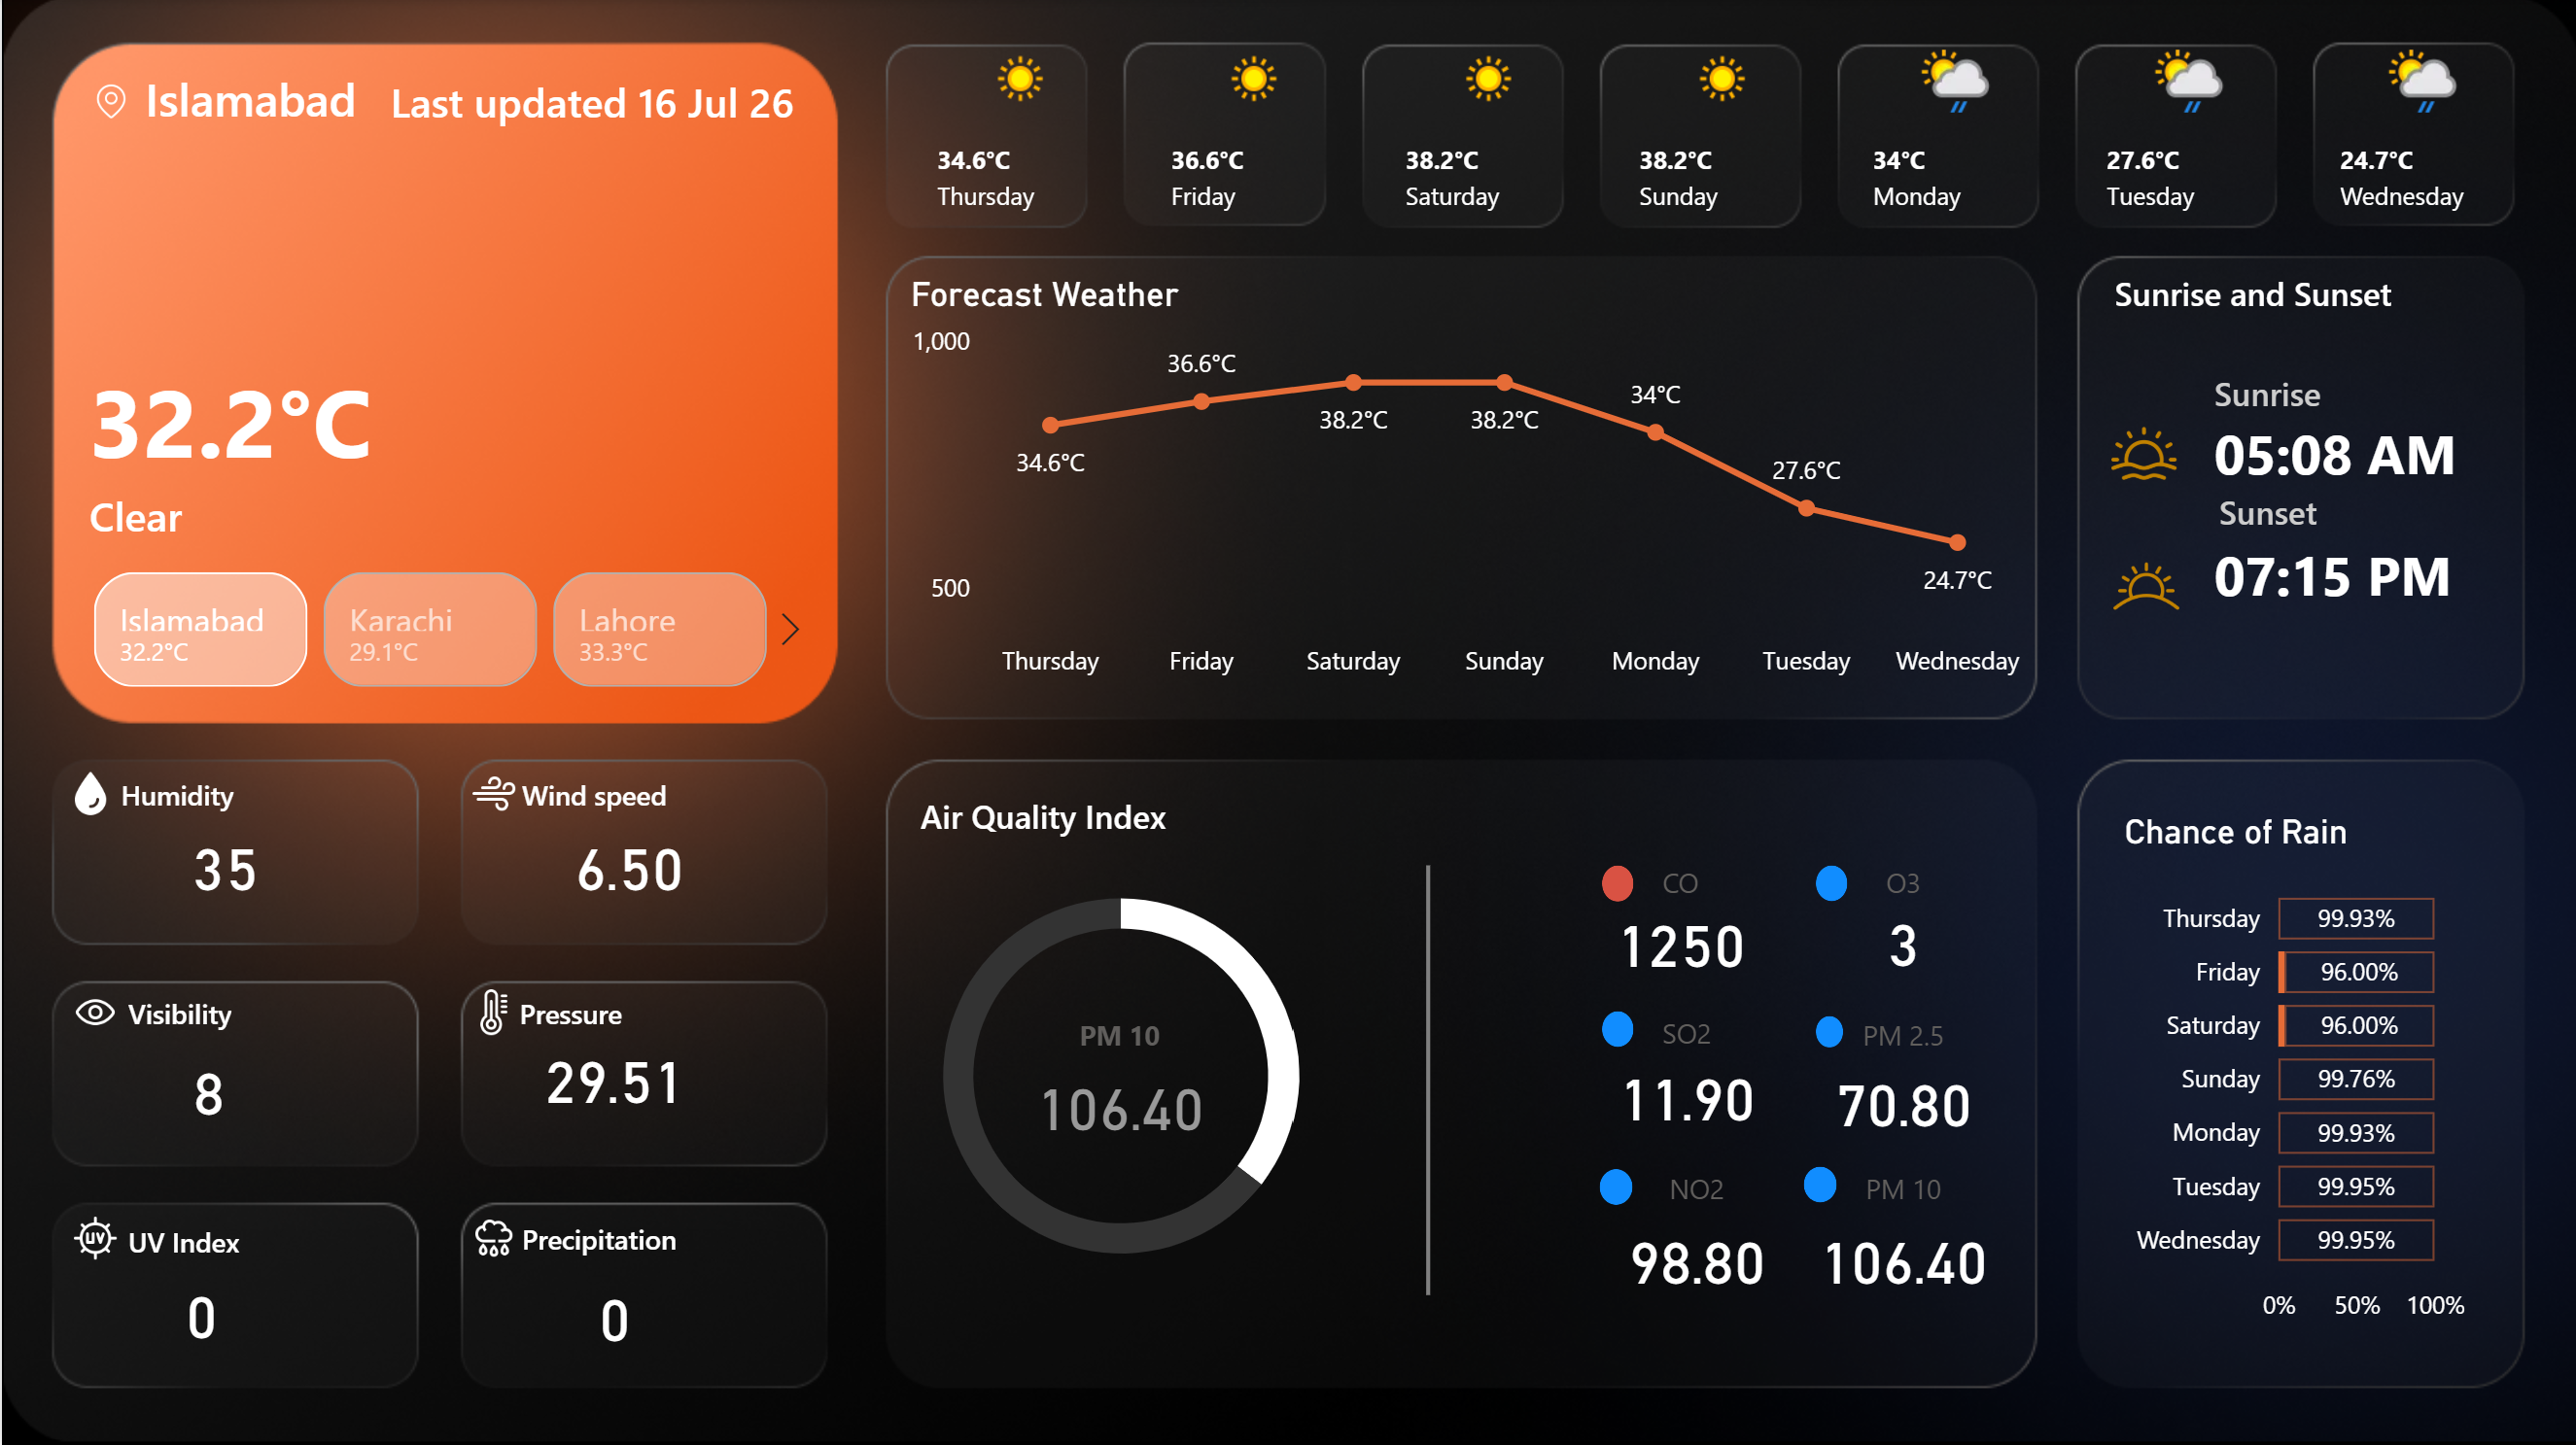

Layout of this report page (visuals, bound fields, positions):
{"tool":"powerbi","page":{"name":"Page 1","canvas":[1280,720],"ordinal":0},"visuals":[{"type":"advancedSlicerVisual","fields":{"Values":["Locations.location.name"]},"box":[20.6,279.9,387,67.2],"z":0},{"type":"shape","box":[43.9,162.2,181.7,93.9],"z":1000},{"type":"shape","box":[43.9,232.9,181.7,47.6],"z":2000},{"type":"shape","box":[71.2,27.7,195.4,43.4],"z":3000},{"type":"shape","box":[182.2,27.7,211.1,47.1],"z":4000},{"type":"image","box":[45.8,19.3,16.9,63.9],"z":5000},{"type":"image","box":[33.8,492.2,25.3,22.9],"z":6000},{"type":"shape","box":[62.7,486.2,119.4,35],"z":7000},{"type":"image","box":[33.8,604.4,25.3,22.9],"z":8000},{"type":"shape","box":[62.7,599.6,119.4,35],"z":9000},{"type":"image","box":[31.4,383.6,25.3,22.9],"z":10000},{"type":"image","box":[231.6,604.4,25.3,22.9],"z":11000},{"type":"image","box":[231.6,492.2,25.3,22.9],"z":12000},{"type":"image","box":[231.6,383.6,25.3,22.9],"z":13000},{"type":"shape","box":[59.1,377.6,119.4,35],"z":14000},{"type":"shape","box":[257,486.2,119.4,35],"z":15000},{"type":"shape","box":[258.2,598.4,119.4,35],"z":16000},{"type":"shape","box":[258.2,377.6,119.4,35],"z":17000},{"type":"advancedSlicerVisual","fields":{"Values":["Forecast_day.day_name"]},"box":[446.4,0,820.4,124.3],"z":18000},{"type":"lineChart","title":"Forecast Weather","fields":{"Y":["Sum(Forecast_day.forecast.forecastday.day.avgtemp_c)"],"Category":["Forecast_day.day_name"]},"box":[446.4,137.5,565.8,209.9],"z":19000},{"type":"shape","box":[1048.4,129.1,174.9,35],"z":20000},{"type":"shape","box":[1097.8,178.6,182.2,94.1],"z":21000},{"type":"shape","box":[1097.8,238.9,182.2,94.1],"z":22000},{"type":"shape","box":[1097.8,178.6,174.9,35],"z":23000},{"type":"shape","box":[1100.2,237.7,174.9,35],"z":24000},{"type":"image","box":[1032.7,209.9,60.3,32.6],"z":25000},{"type":"image","box":[1032.7,270.2,62.7,43.4],"z":26000},{"type":"hundredPercentStackedBarChart","title":"Chance of Rain","fields":{"Y":["Sum(Current.current.chance_of_rain)","_Measures.Left_Value_Rain"],"Category":["Forecast_day.day_name"]},"box":[1048.4,404.2,178.6,263],"z":27000},{"type":"shape","box":[456.2,388.8,175,35],"z":28000},{"type":"card","fields":{"Values":["Sum(Current.current.air_quality.co)"]},"box":[793.9,424.4,78,65.9],"z":29000},{"type":"card","fields":{"Values":["Sum(Current.current.air_quality.so2)"]},"box":[793.9,500,84.1,69.5],"z":30000},{"type":"card","fields":{"Values":["Sum(Current.current.air_quality.no2)"]},"box":[793.8,576.7,94.1,77.2],"z":31000},{"type":"card","fields":{"Values":["Sum(Current.current.air_quality.o3)"]},"box":[906,424.7,74.8,65.1],"z":32000},{"type":"card","fields":{"Values":["Sum(Current.current.air_quality.pm10)"]},"box":[894,576.7,98.9,77.2],"z":33000},{"type":"card","fields":{"Values":["Sum(Current.current.air_quality.pm2_5)"]},"box":[900,500.7,86.9,72.4],"z":34000},{"type":"card","fields":{"Values":["Sum(Current.current.humidity)"]},"box":[71.2,404.2,79.6,53.1],"z":35000},{"type":"card","fields":{"Values":["Sum(Current.current.wind_kph)"]},"box":[258.2,404.2,106.2,53.1],"z":36000},{"type":"card","fields":{"Values":["Sum(Current.current.vis_km)"]},"box":[62.7,515.2,79.6,54.3],"z":37000},{"type":"card","fields":{"Values":["Sum(Current.current.pressure_in)"]},"box":[249.7,509.1,108.6,54.3],"z":38000},{"type":"card","fields":{"Values":["Sum(Current.current.uv)"]},"box":[59.1,626.1,79.6,54.3],"z":39000},{"type":"card","fields":{"Values":["Sum(Current.current.precip_in)"]},"box":[264.2,627.3,79.6,54.3],"z":40000},{"type":"shape","box":[793.8,430.7,15.7,18.1],"z":40001},{"type":"shape","box":[793.6,503.6,15.7,17.9],"z":40002},{"type":"shape","box":[792.9,581.4,16.4,17.9],"z":40003},{"type":"shape","box":[900,430.7,15.7,17.9],"z":40004},{"type":"shape","box":[900,505.7,13.6,15.7],"z":40005},{"type":"shape","box":[894.3,580.7,16.4,17.9],"z":40006},{"type":"shape","box":[596.3,430.5,223.2,213.4],"z":40007},{"type":"card","fields":{"Values":["Sum(Current.current.air_quality.pm10)"]},"box":[506.1,501.2,98.8,76.8],"z":40008},{"type":"donutChart","fields":{"Y":["Sum(Current.current.air_quality.pm10)","_Measures.Left_value_pm10"]},"box":[361,419.5,389,230.5],"z":40009}]}

Visuals, with their boxes in screenshot pixels (x1, y1, x2, y2), scaled from the page's 1280x720 canvas onto the 2576x1445 screenshot:
advancedSlicerVisual - Locations.location.name: BBox(42, 562, 820, 697)
shape: BBox(88, 326, 454, 514)
shape: BBox(88, 467, 454, 563)
shape: BBox(143, 55, 537, 143)
shape: BBox(366, 55, 791, 150)
image: BBox(92, 39, 126, 167)
image: BBox(68, 988, 119, 1034)
shape: BBox(126, 976, 366, 1046)
image: BBox(68, 1213, 119, 1259)
shape: BBox(126, 1203, 366, 1274)
image: BBox(63, 770, 114, 816)
image: BBox(466, 1213, 517, 1259)
image: BBox(466, 988, 517, 1034)
image: BBox(466, 770, 517, 816)
shape: BBox(119, 758, 360, 828)
shape: BBox(517, 976, 757, 1046)
shape: BBox(520, 1201, 760, 1271)
shape: BBox(520, 758, 760, 828)
advancedSlicerVisual - Forecast_day.day_name: BBox(898, 0, 2550, 250)
"Forecast Weather" lineChart: BBox(898, 276, 2037, 697)
shape: BBox(2110, 259, 2462, 329)
shape: BBox(2210, 359, 2575, 547)
shape: BBox(2210, 479, 2575, 669)
shape: BBox(2210, 359, 2561, 429)
shape: BBox(2214, 477, 2566, 547)
image: BBox(2078, 422, 2200, 487)
image: BBox(2078, 542, 2205, 630)
"Chance of Rain" hundredPercentStackedBarChart: BBox(2110, 811, 2469, 1339)
shape: BBox(918, 780, 1271, 850)
card - Sum(Current.current.air_quality.co): BBox(1598, 852, 1755, 984)
card - Sum(Current.current.air_quality.so2): BBox(1598, 1004, 1767, 1143)
card - Sum(Current.current.air_quality.no2): BBox(1597, 1157, 1787, 1312)
card - Sum(Current.current.air_quality.o3): BBox(1824, 852, 1974, 983)
card - Sum(Current.current.air_quality.pm10): BBox(1799, 1157, 1999, 1312)
card - Sum(Current.current.air_quality.pm2_5): BBox(1811, 1005, 1986, 1151)
card - Sum(Current.current.humidity): BBox(143, 811, 303, 917)
card - Sum(Current.current.wind_kph): BBox(520, 811, 733, 917)
card - Sum(Current.current.vis_km): BBox(126, 1034, 287, 1143)
card - Sum(Current.current.pressure_in): BBox(503, 1021, 721, 1131)
card - Sum(Current.current.uv): BBox(119, 1256, 279, 1365)
card - Sum(Current.current.precip_in): BBox(532, 1259, 692, 1368)
shape: BBox(1597, 865, 1629, 901)
shape: BBox(1597, 1011, 1629, 1047)
shape: BBox(1596, 1167, 1629, 1203)
shape: BBox(1811, 865, 1843, 900)
shape: BBox(1811, 1015, 1838, 1047)
shape: BBox(1799, 1165, 1832, 1201)
shape: BBox(1201, 864, 1650, 1292)
card - Sum(Current.current.air_quality.pm10): BBox(1019, 1006, 1217, 1160)
donutChart - Sum(Current.current.air_quality.pm10) x _Measures.Left_value_pm10: BBox(726, 842, 1510, 1304)
